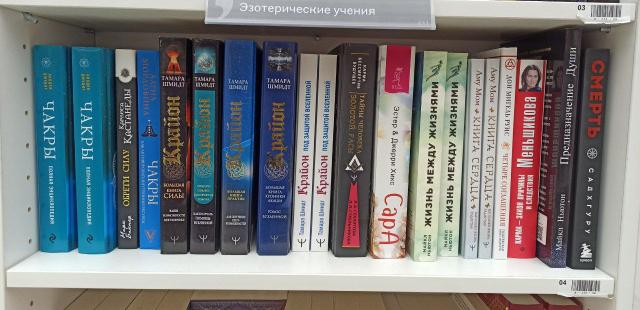book-s-spine: (335, 43, 377, 257), (373, 46, 415, 258), (572, 49, 610, 270), (259, 41, 295, 256), (550, 28, 582, 268), (508, 60, 546, 258), (414, 52, 448, 261), (72, 47, 106, 254), (34, 46, 68, 252), (222, 40, 253, 255), (437, 53, 468, 256), (191, 39, 219, 255), (160, 37, 187, 254), (311, 55, 337, 252), (493, 48, 517, 259), (292, 54, 317, 251), (137, 50, 161, 250), (115, 49, 137, 249), (479, 59, 500, 259), (464, 58, 484, 258)
